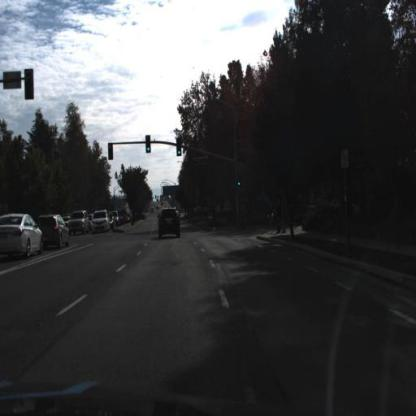biker: (277, 202, 282, 233), (241, 203, 246, 228)
car: (1, 214, 45, 258), (43, 214, 71, 250), (160, 207, 183, 240), (69, 212, 90, 238), (92, 211, 110, 236)
pedestrian: (263, 193, 288, 243)
trafficLight-Green: (235, 175, 244, 198), (146, 135, 152, 156), (177, 137, 183, 157), (237, 170, 243, 190)
trafficLight-RedLeft: (108, 142, 113, 163)
